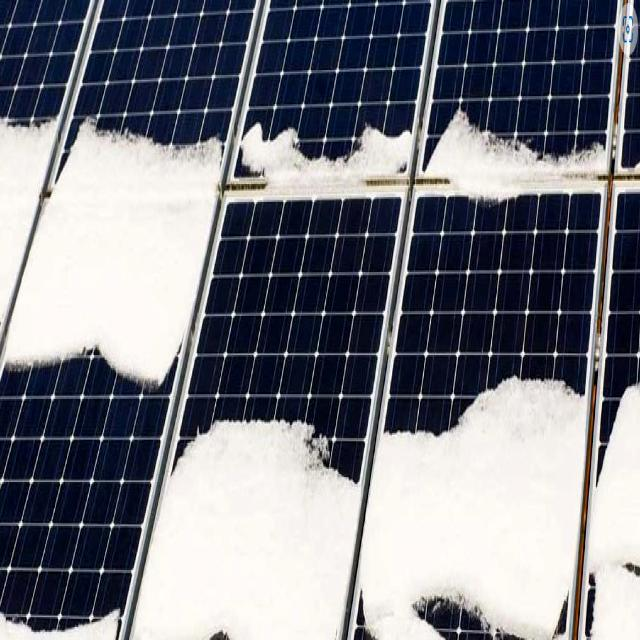panel: (422, 88, 538, 212), (382, 562, 540, 640), (286, 372, 364, 507), (242, 120, 334, 220), (63, 81, 148, 172), (94, 317, 172, 412), (598, 328, 638, 508), (68, 202, 196, 256), (446, 352, 506, 466), (517, 355, 588, 450), (234, 382, 296, 482), (339, 108, 409, 194), (379, 393, 442, 488), (142, 109, 225, 179), (0, 317, 95, 378), (0, 66, 50, 180), (580, 548, 640, 632), (544, 124, 612, 187), (173, 418, 247, 468), (0, 590, 70, 640), (67, 578, 120, 640), (542, 568, 584, 640), (344, 575, 375, 640), (207, 609, 242, 640)
